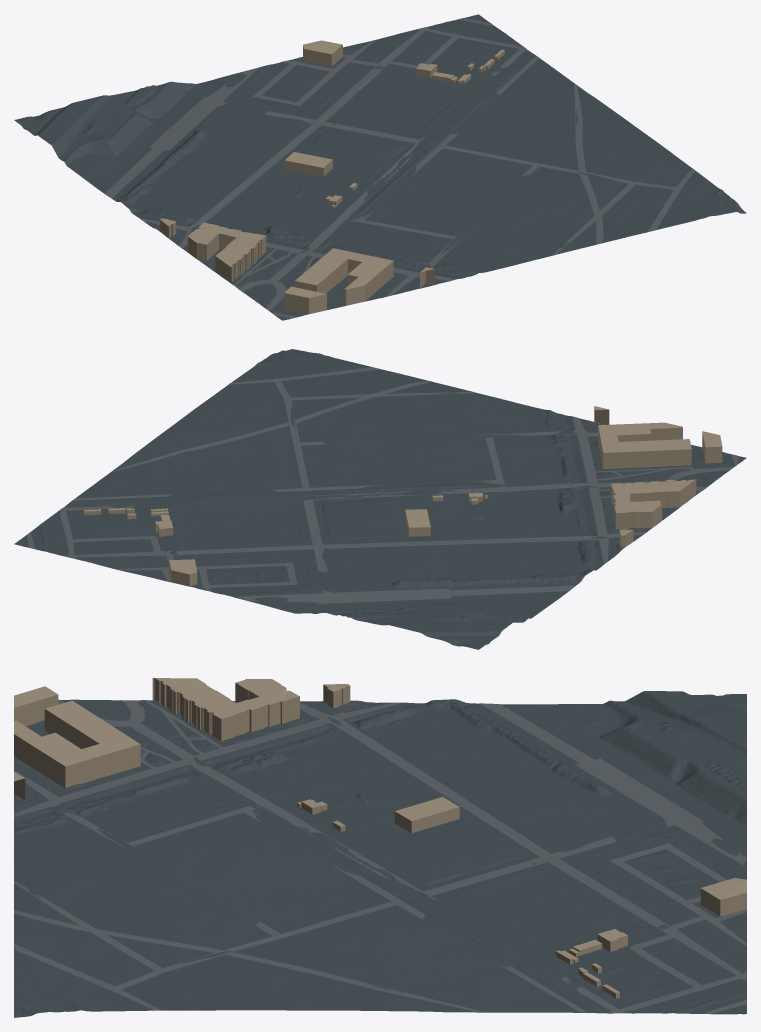
Rendered from epsg26910-1443-10871.lod0.glb.
The picture shows the model from 3 angles, top to bottom: view 1: azimuth 30°, elevation 25°; view 2: azimuth 150°, elevation 25°; view 3: azimuth 270°, elevation 25°; orthographic projection. The views are drawn at different scales.
Visible parts, largest first — view 1: epsg26910-1443-10871-lod0; view 2: epsg26910-1443-10871-lod0; view 3: epsg26910-1443-10871-lod0.
Boxes of the visible parts, x1,y1,x2,y2 form: epsg26910-1443-10871-lod0: (14,14,746,320); epsg26910-1443-10871-lod0: (14,349,746,649); epsg26910-1443-10871-lod0: (14,678,746,1017).
Bounding box in the file's own units: 384 × 17.73 × 384.
